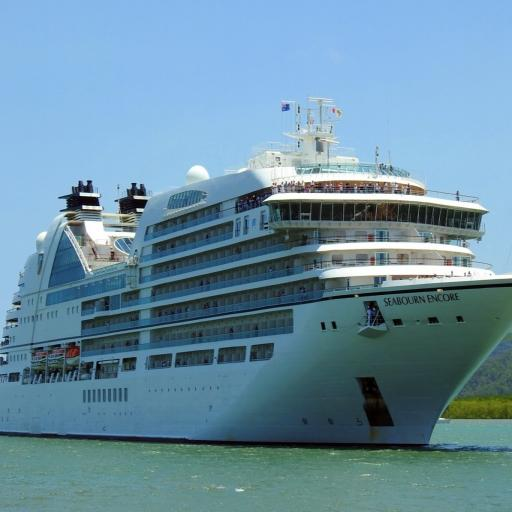cruises: (1, 96, 512, 462)
